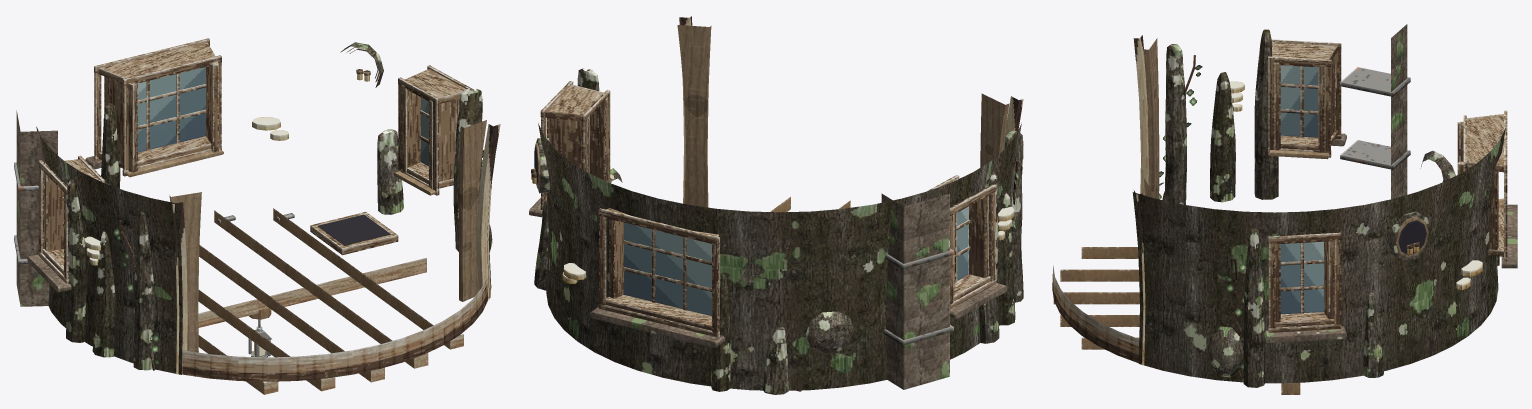
File: trunk_f3.glb
The picture shows the model from 3 angles, left to right: view 1: azimuth 30°, elevation 25°; view 2: azimuth 150°, elevation 25°; view 3: azimuth 270°, elevation 25°; orthographic projection. The views are drawn at different scales.
Visible parts, largest first — view 1: tile_wood, tile_bark, solid, tile_boards, tile_stone, pane; view 2: tile_bark, tile_wood, tile_stone, solid, pane; view 3: tile_bark, tile_wood, solid, pane, tile_stone, tile_boards, card.
Part boxes in pixels (x1,y1,x2,y2): tile_wood: (38,38,474,394); tile_bark: (36,42,492,374); solid: (14,47,500,374); tile_boards: (182,276,488,381); tile_stone: (16,110,101,306); pane: (137,67,428,166); tile_bark: (534,68,1023,394); tile_wood: (540,81,996,391); tile_stone: (529,193,1007,389); solid: (531,16,1023,345); pane: (623,206,968,315); tile_bark: (1132,29,1505,387); tile_wood: (1053,39,1507,394); solid: (1133,35,1482,378); pane: (1280,65,1323,314); tile_stone: (1264,24,1517,343); tile_boards: (1052,265,1139,362); card: (1159,65,1246,382).
Bounding box in the file's own units: 184 × 105 × 174.
4 materials, 4 textured.
